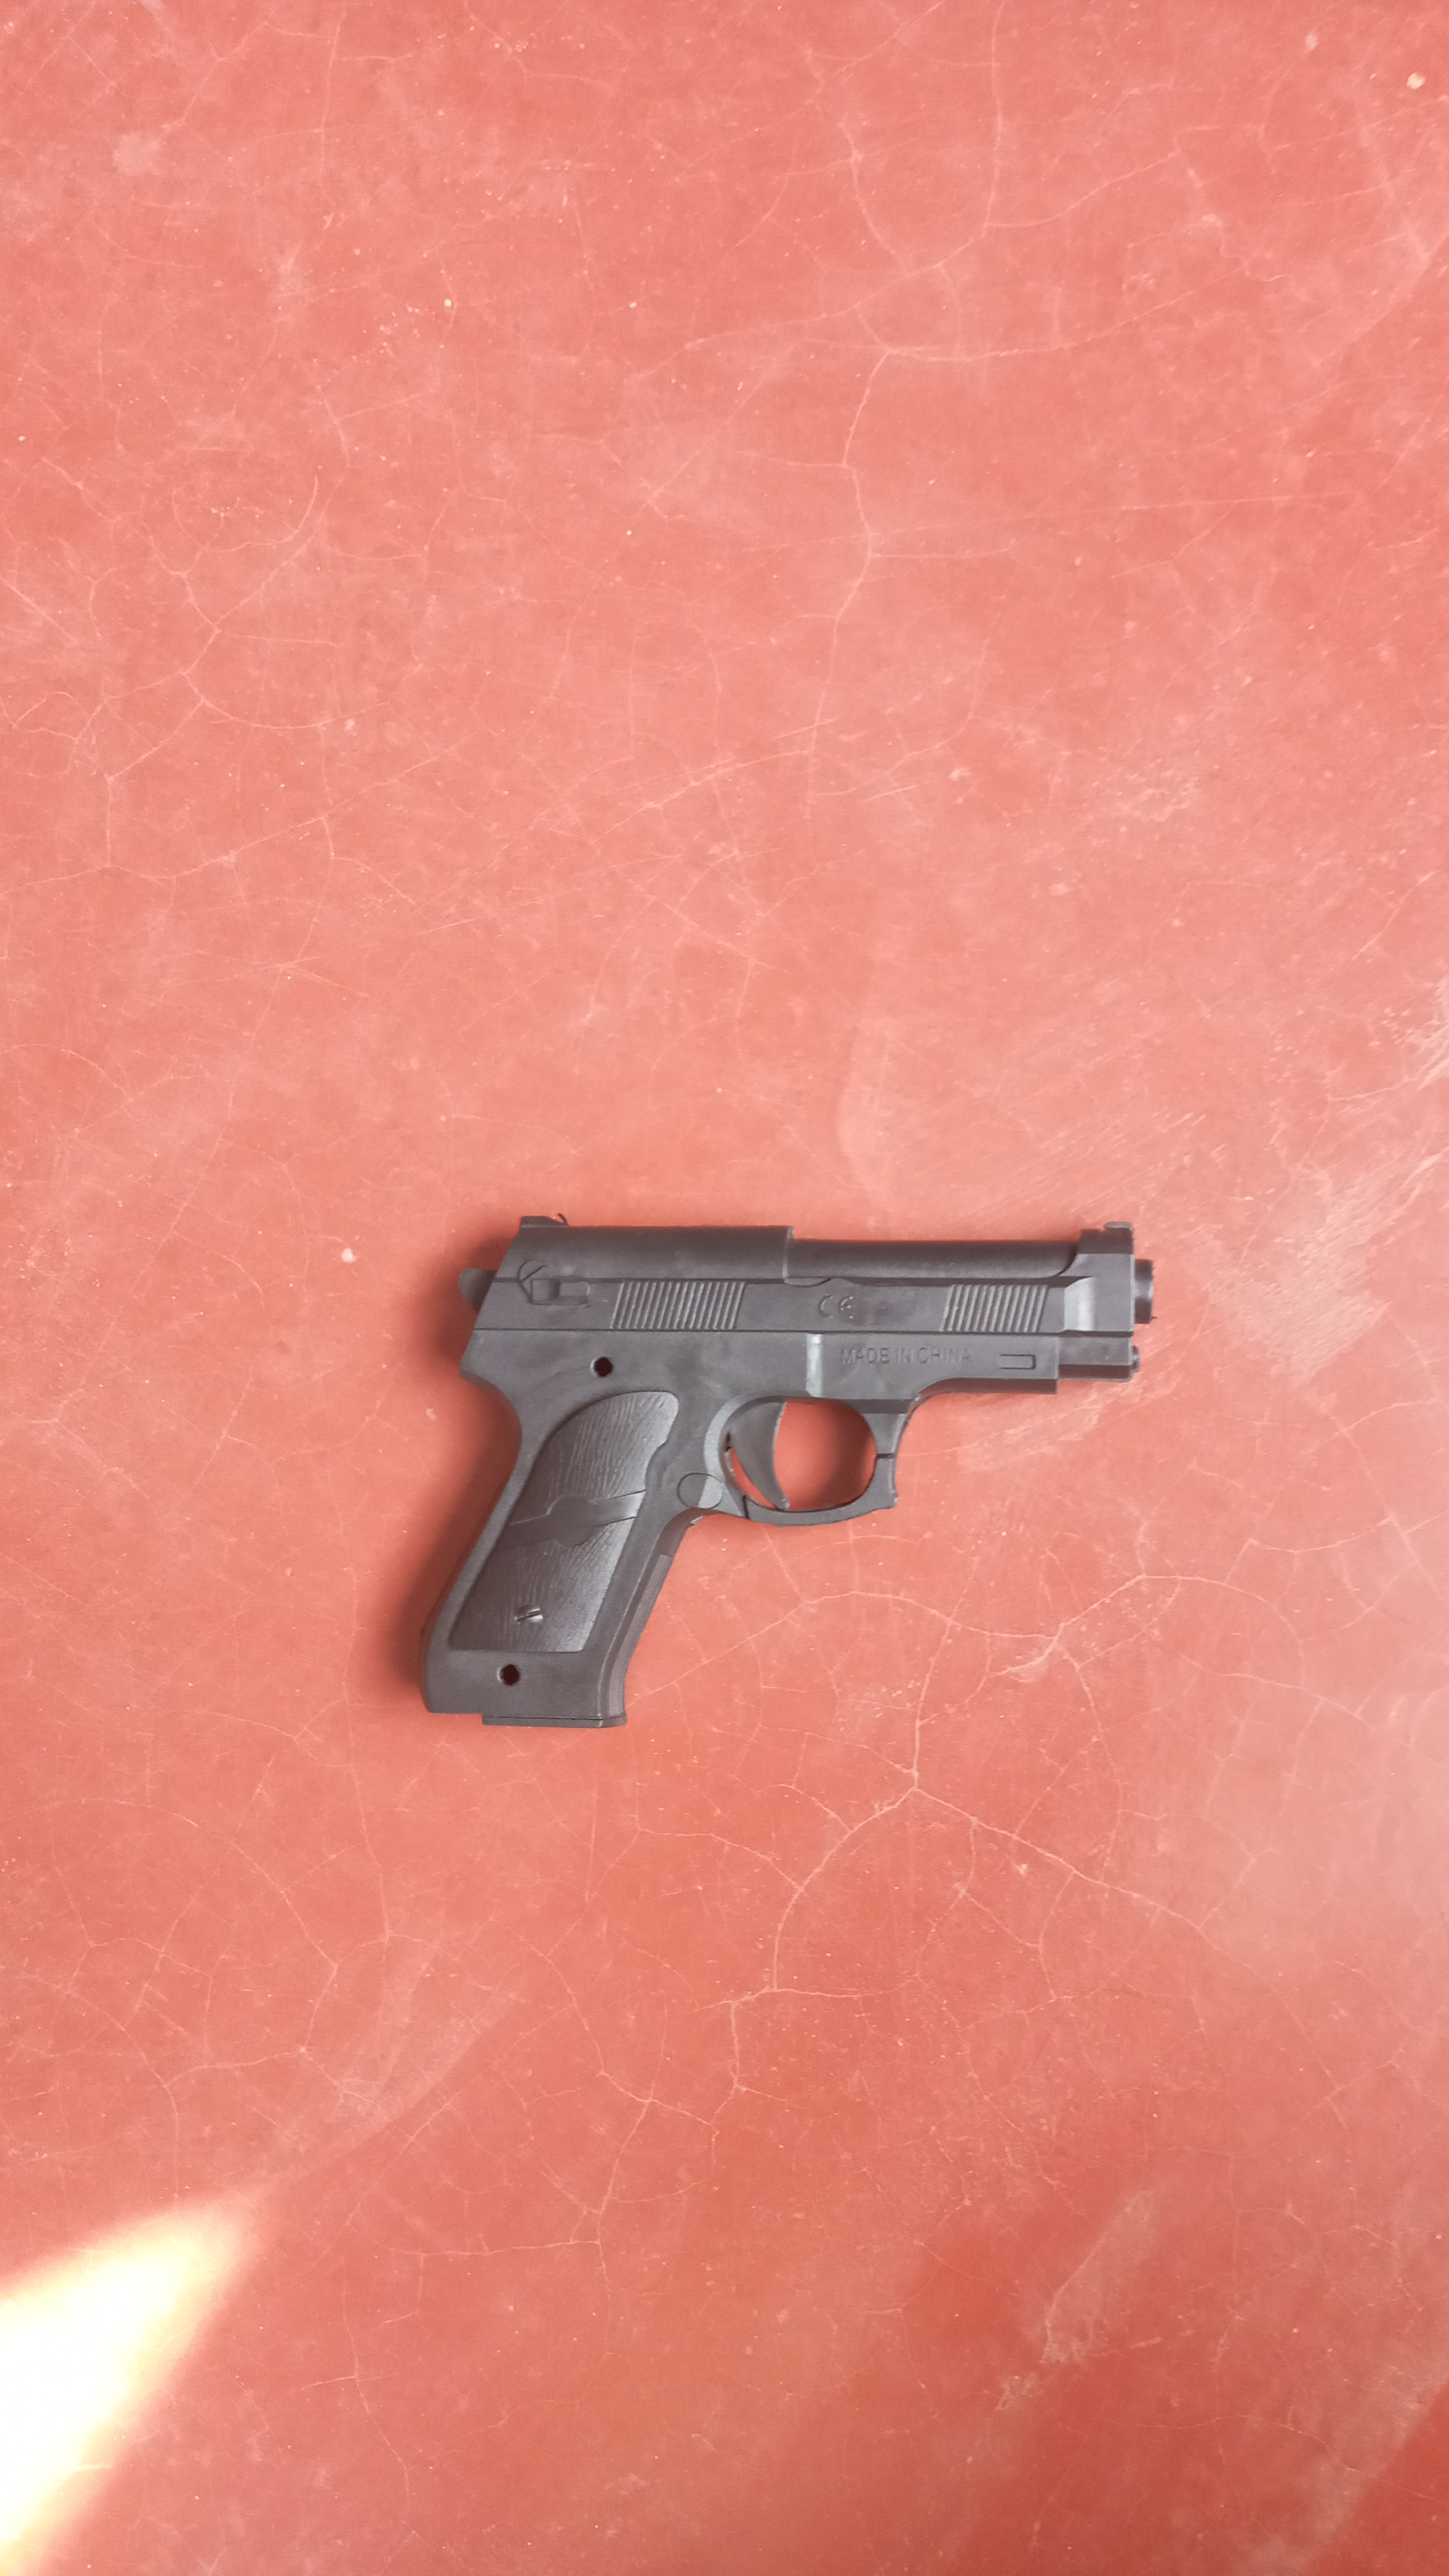Arma: (428, 1224, 1171, 1532)
